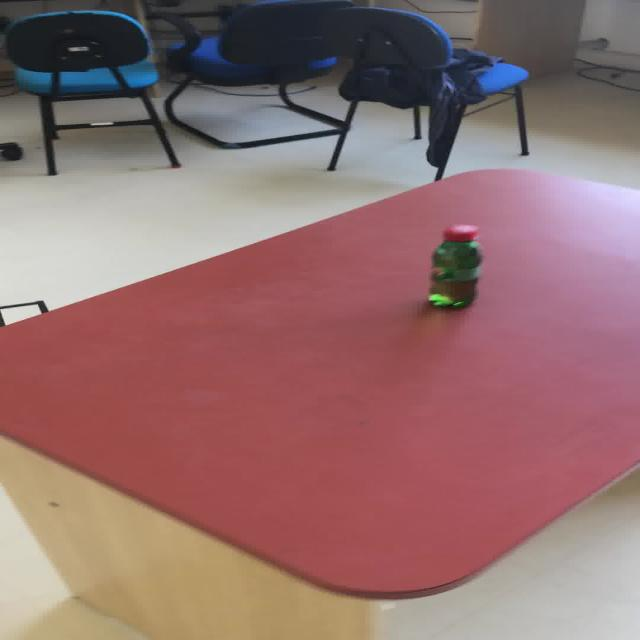guarana: (425, 223, 483, 308)
